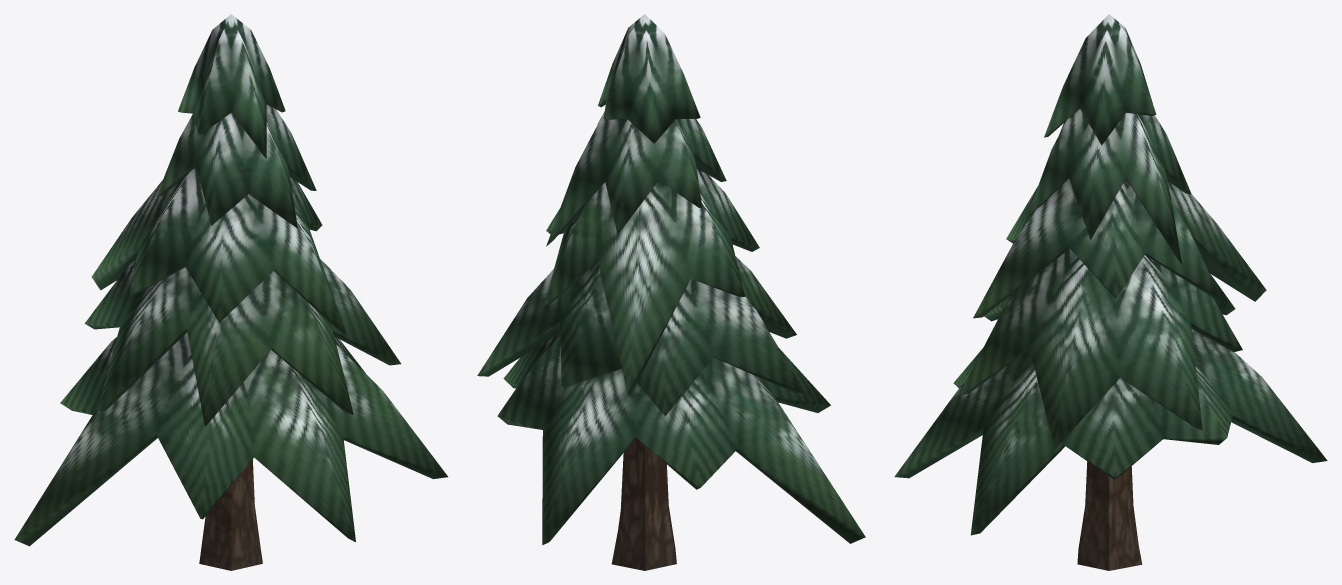
The model's file is pine_snow_light.glb.
3 views of the same model, side by side, from view 1: azimuth 30°, elevation 25°; view 2: azimuth 150°, elevation 25°; view 3: azimuth 270°, elevation 25° (orthographic).
Visible parts, largest first — view 1: root_mesh; view 2: root_mesh; view 3: root_mesh.
Part boxes in pixels (<box>): root_mesh: <box>14,14,447,570</box>; root_mesh: <box>477,14,865,570</box>; root_mesh: <box>894,14,1327,570</box>.
Size of the model in its own units: 0.9425 by 1.33 by 0.9634.
Materials: 1 (1 with a texture image).
